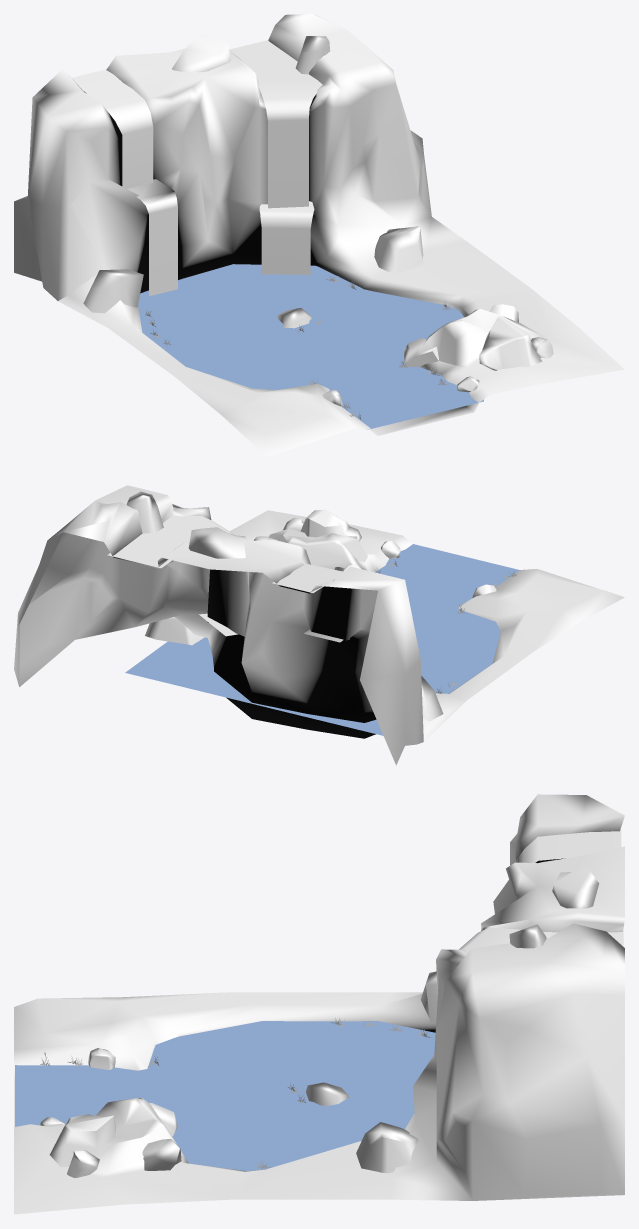
Rendered from Plattform-Tiles.fbx_BG_Lagune.fbx.
3 views of the same model, one above another, from view 1: azimuth 30°, elevation 25°; view 2: azimuth 150°, elevation 25°; view 3: azimuth 270°, elevation 25° (orthographic). The views are drawn at different scales.
Visible parts, largest first — view 1: BG_Lagune; view 2: BG_Lagune; view 3: BG_Lagune.
Boxes of the visible parts, x1,y1,x2,y2 form: BG_Lagune: (14, 14, 624, 456); BG_Lagune: (14, 485, 624, 765); BG_Lagune: (14, 794, 624, 1214).
Size of the model in its own units: 11200 by 5490 by 9710.
